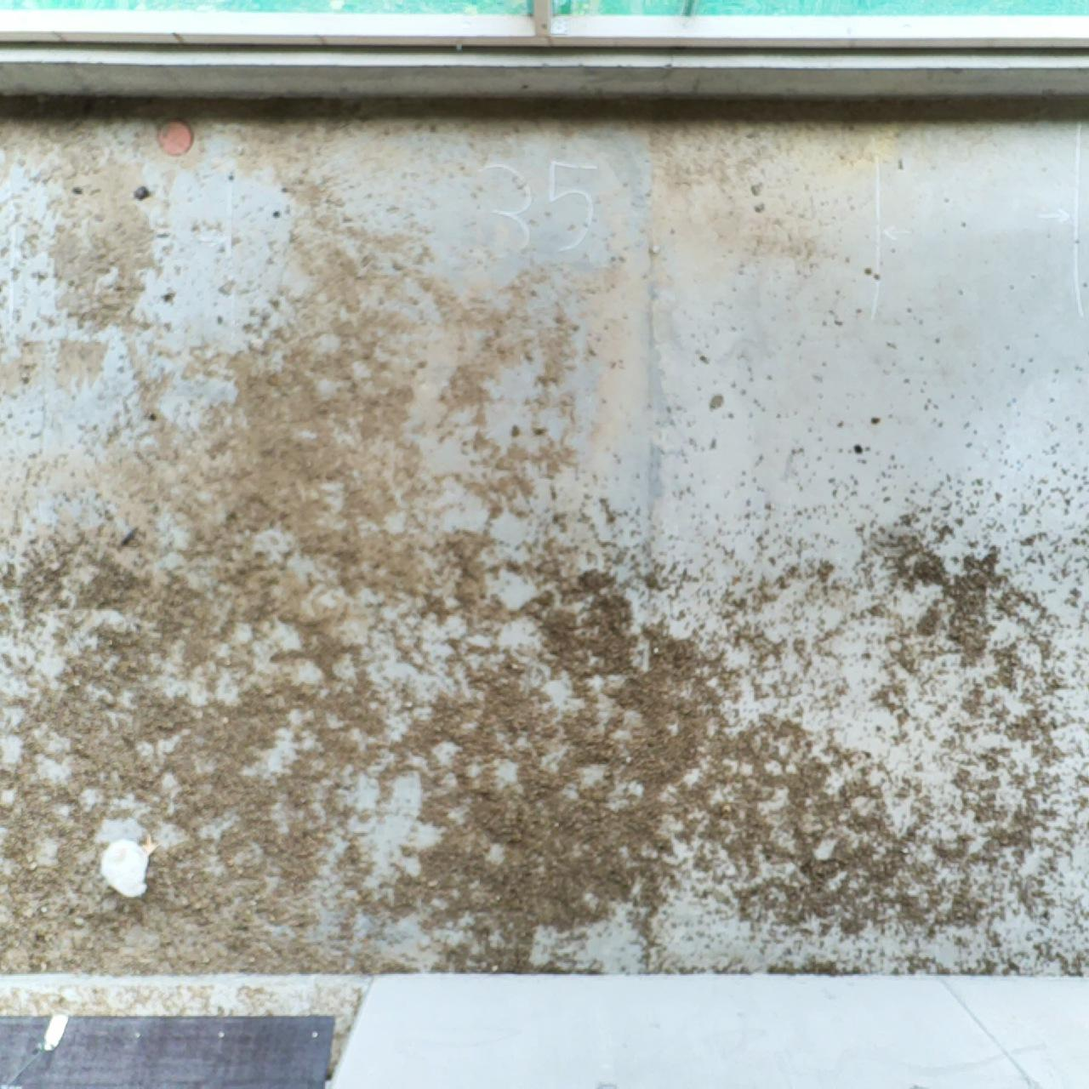chicken: (96, 831, 161, 901)
